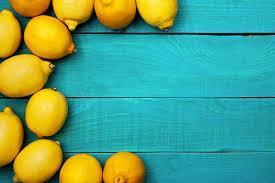lemon: (0, 54, 53, 97), (12, 139, 62, 183), (24, 16, 74, 59), (25, 88, 68, 137), (0, 106, 23, 167), (103, 152, 145, 183), (59, 154, 102, 183), (52, 0, 93, 30), (136, 0, 178, 29), (94, 0, 136, 29), (0, 8, 21, 58), (8, 0, 50, 17)
